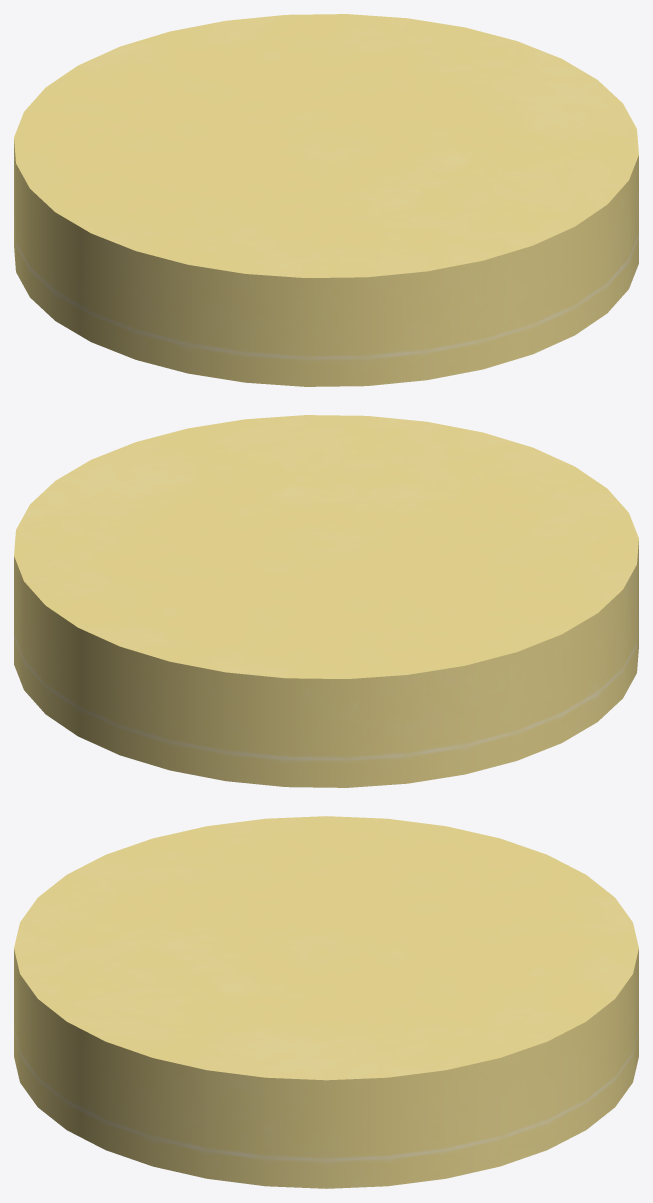
File: SM_LampB_B.fbx
3 renders of one model, top to bottom at view 1: azimuth 30°, elevation 25°; view 2: azimuth 150°, elevation 25°; view 3: azimuth 270°, elevation 25°, orthographic.
Visible parts, largest first — view 1: SM_LampB_B_LOD0; view 2: SM_LampB_B_LOD0; view 3: SM_LampB_B_LOD0.
Part boxes in pixels (left/top/right/bottom): SM_LampB_B_LOD0: left=14, top=14, right=638, bottom=386; SM_LampB_B_LOD0: left=14, top=415, right=638, bottom=787; SM_LampB_B_LOD0: left=14, top=816, right=638, bottom=1188.
Bounding box in the file's own units: 26.09 × 26.09 × 5.
Materials: 1 (1 with a texture image).
